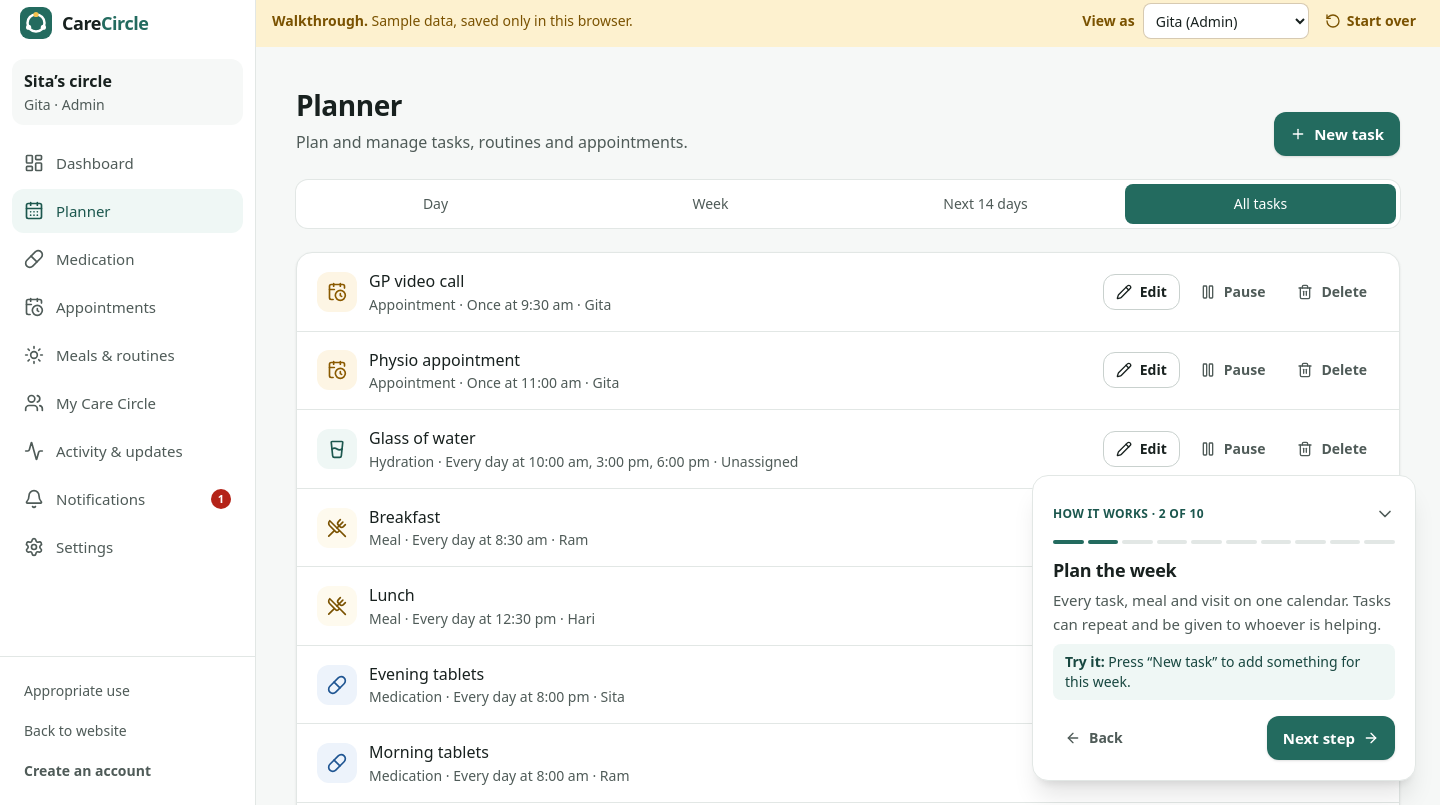
Test case: dashboard and planner › creates a new task series that then appears in All tasks
Click the button "New task": (1337, 134) [1274,112,1400,156]
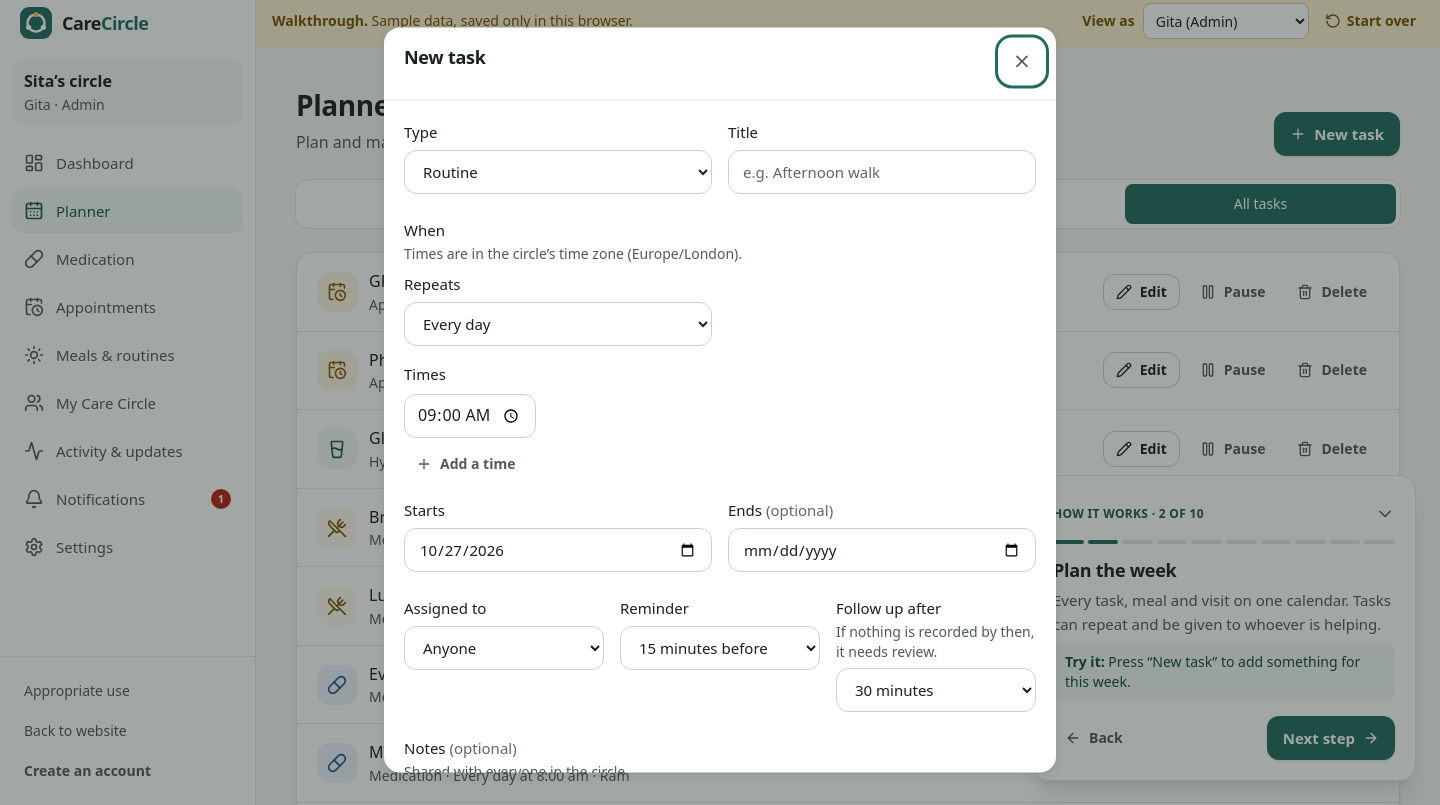
In the field labelled "Title": (882, 172) [728,150,1036,194], type "Crossword"
(page scrolled)
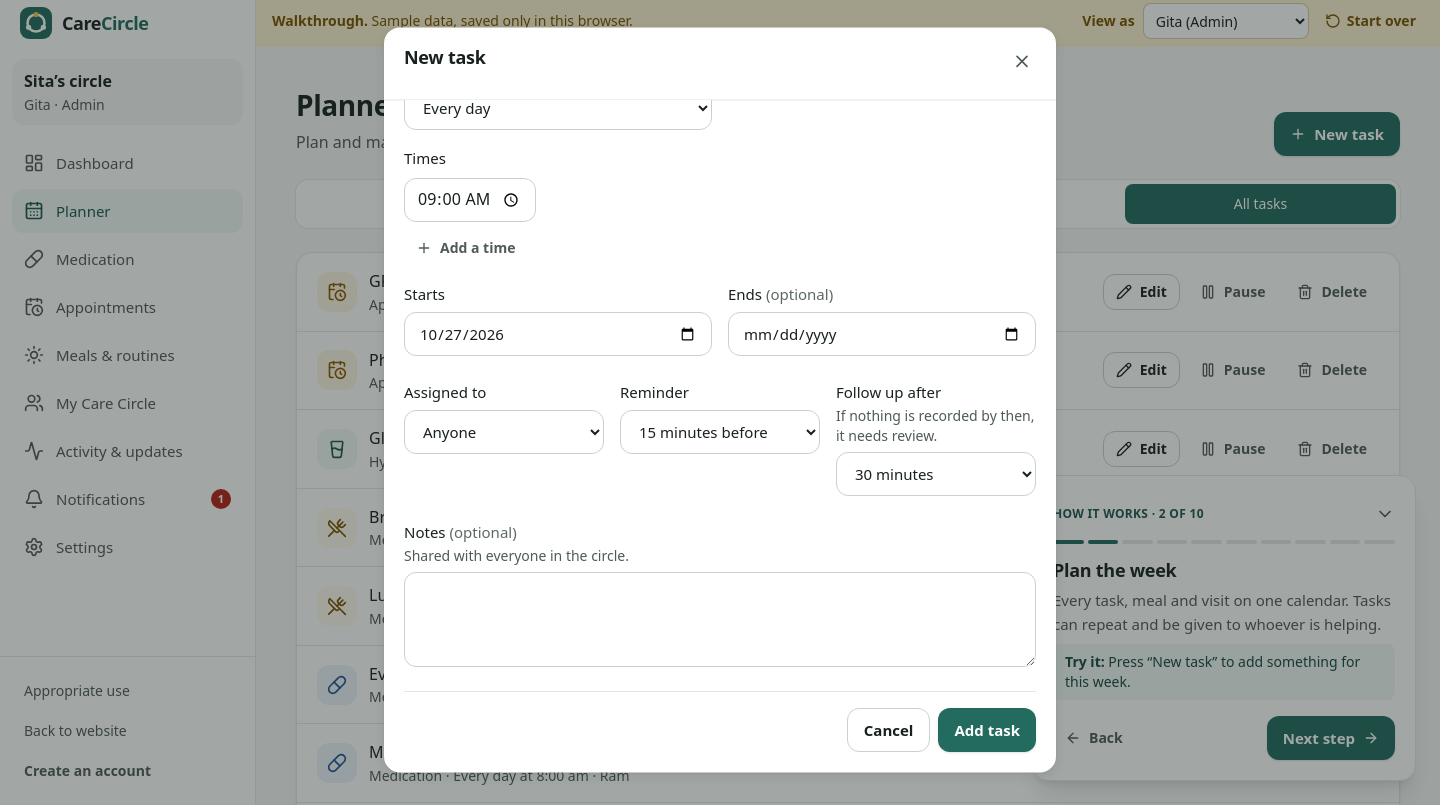
Click the button "Add task": (987, 730) [938,708,1036,752]
(page scrolled)
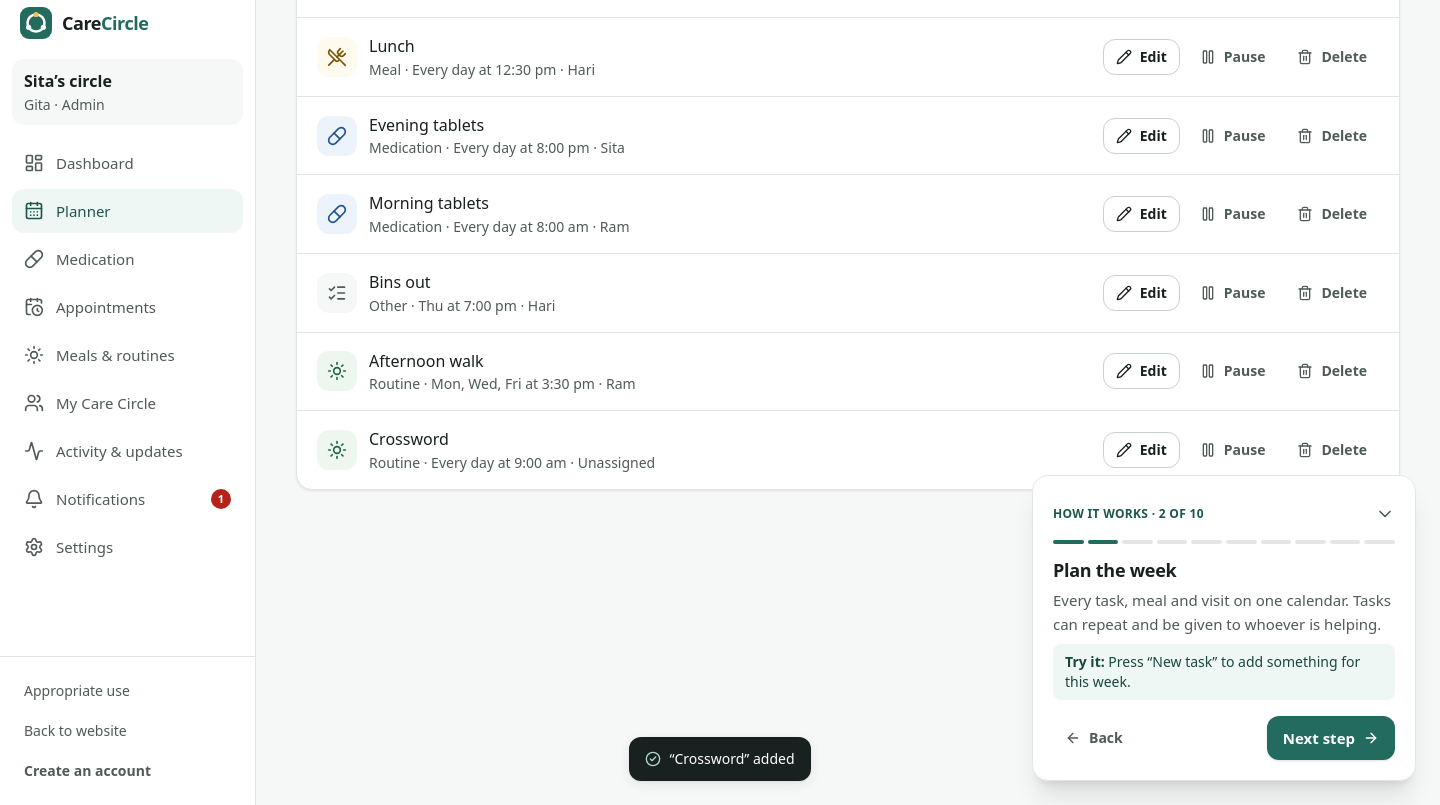
Result: the dialog is gone
Result: the text "Crossword" is shown at [369,428,449,450]
